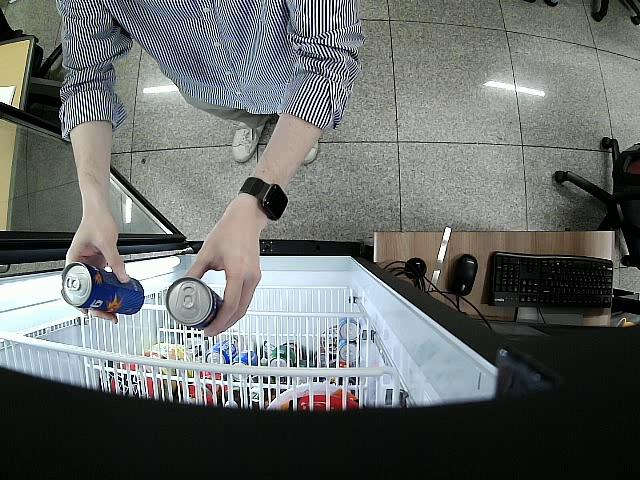00_hand: (182, 228, 260, 339), (67, 218, 127, 324)
16_hot6: (58, 262, 145, 315), (167, 277, 224, 331)
